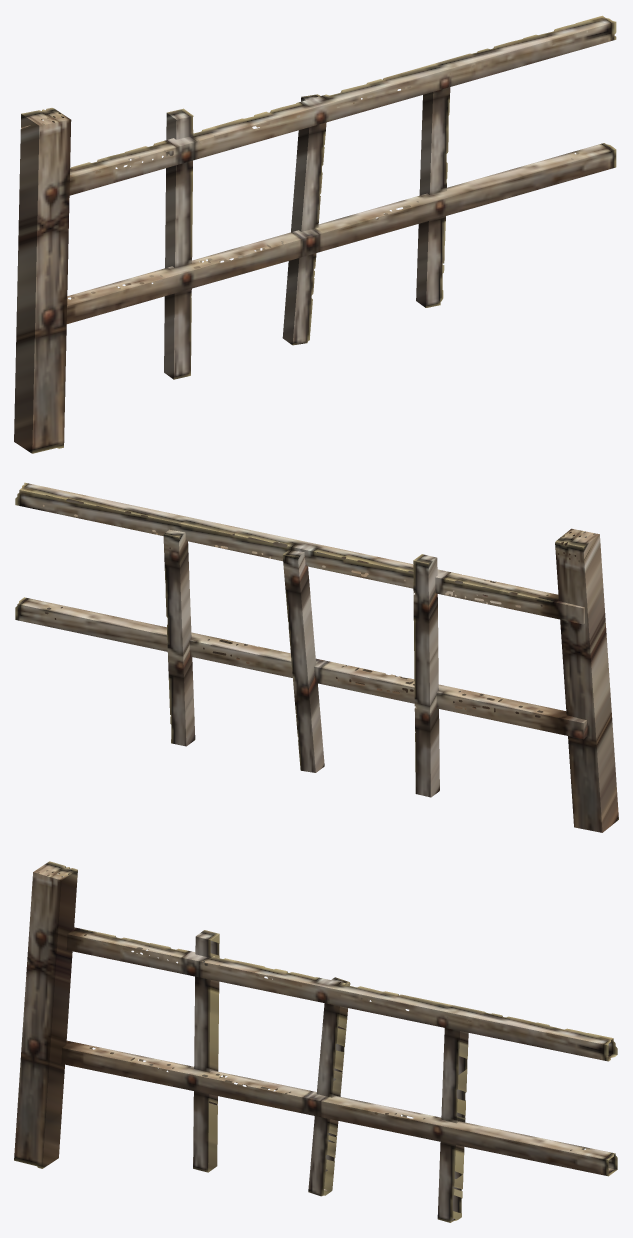
The model's file is fence_03.glb.
3 renders of one model, top to bottom at view 1: azimuth 30°, elevation 25°; view 2: azimuth 150°, elevation 25°; view 3: azimuth 330°, elevation 25°, orthographic. The views are drawn at different scales.
Parts seen in each view (by area): view 1: fence_03_game; view 2: fence_03_game; view 3: fence_03_game.
Part boxes in pixels (x1,y1,x2,y2): fence_03_game: (14,15,616,453); fence_03_game: (15,482,618,832); fence_03_game: (14,861,617,1222).
Size of the model in its own units: 2.56 by 1.26 by 0.3487.
Materials: 1 (1 with a texture image).
